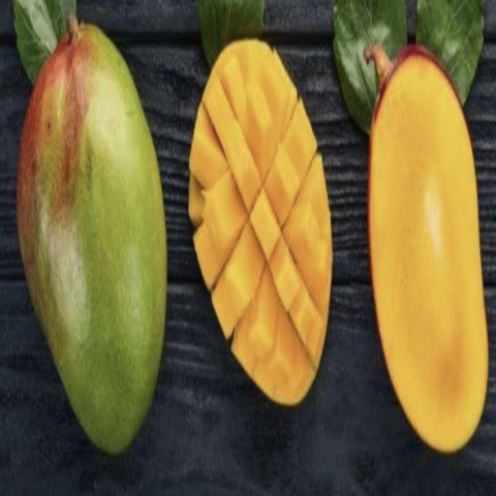mango: (11, 0, 175, 474), (181, 36, 336, 470), (353, 20, 496, 464)
